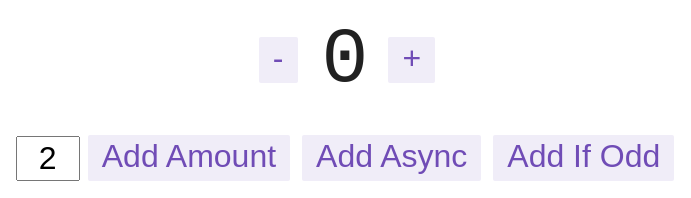
Test: <Counter /> › increments the value
Click the button named "increment value" at x=412, y=60, box [388,36,435,82]
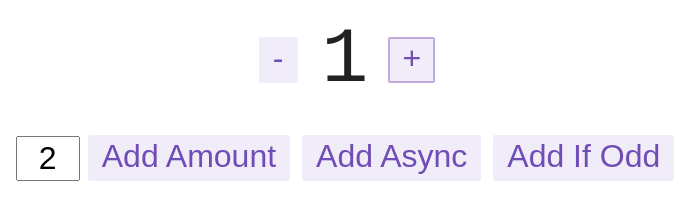
Expected: the text "1" is shown, [322,16,368,104]
